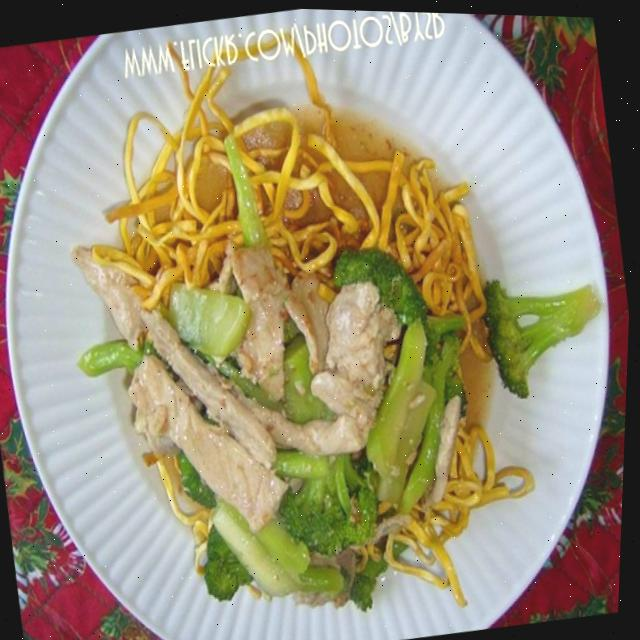面条主食: (13, 11, 605, 640)
